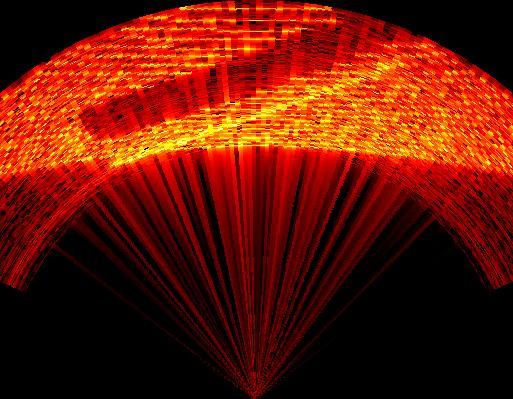pipe: (70, 17, 435, 170)
